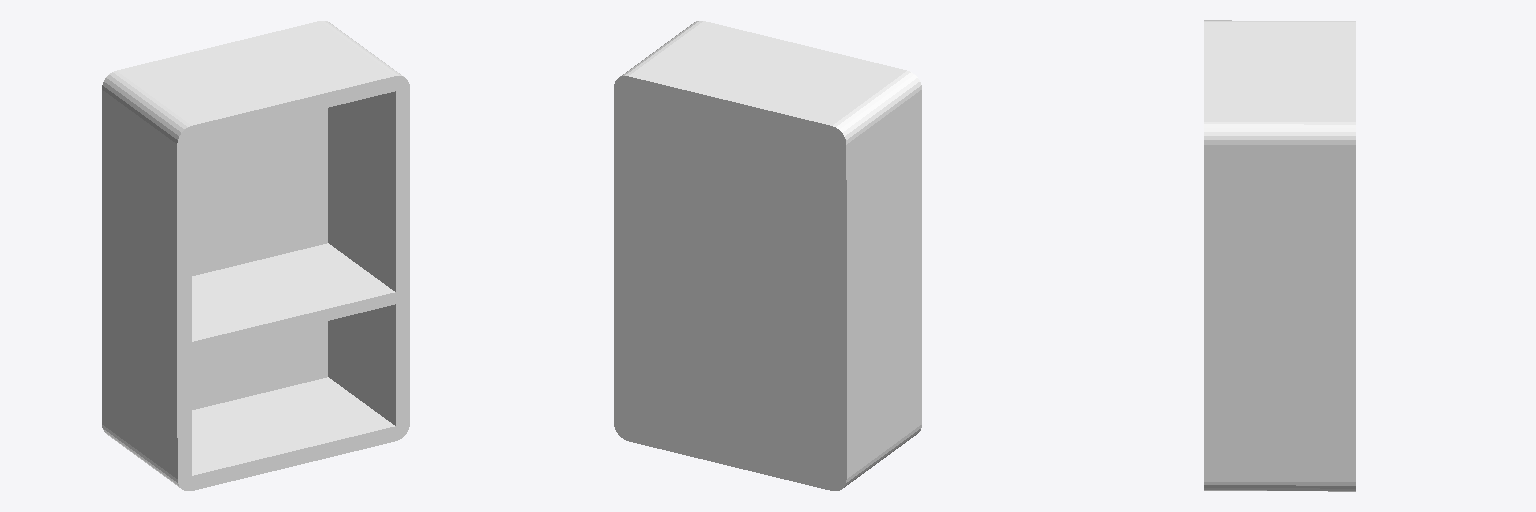
URDF robot description (walls):
<?xml version="1.0" encoding="utf-8"?>
<robot name="walls">
  <link name="base_link">
    <contact>
      <lateral_friction value="0.5"/>
      <rolling_friction value="0.0"/>
      <contact_cfm value="0.0"/>
      <contact_erp value="1.0"/>
    </contact>
    <inertial>
      <origin rpy="0 0 0" xyz="0 0 0"/>
      <mass value="0"/>
      <inertia ixx="0" ixy="0" ixz="0" iyy="0" iyz="0" izz="0"/>
    </inertial>
    <visual>
      <origin rpy="1.57 0 0" xyz="0 0 0"/>
      <geometry>
        <mesh filename="models/meshes/fridge/fridge_back.obj" scale="10 10 10"/>
      </geometry>
      <material name="tray_material">
        <color rgba="1 1 1 1"/>
      </material>
    </visual>
    <collision concave="yes">
      <origin rpy="1.57 0 0" xyz="0 0 0"/>
      <geometry>
        <mesh filename="models/meshes/fridge/fridge_back.obj" scale="9 9 9"/>
      </geometry>
    </collision>
  </link>
</robot>

--- Render facts (derived) ---
Views: 3 orthographic renders of the robot side by side, from view 1: azimuth 30°, elevation 25°; view 2: azimuth 150°, elevation 25°; view 3: azimuth 270°, elevation 25°.
Model walls with 1 links and 0 joints (none), rooted at base_link, posed every joint at zero.
Links seen in each view (by area): view 1: base_link; view 2: base_link; view 3: base_link.
Link boxes in pixels (x1,y1,x2,y2): base_link: (102,21,409,490); base_link: (614,21,921,490); base_link: (1204,20,1355,491).
Size in the robot's own frame: 0.8 by 0.451 by 1.2 metres.
1 mesh visuals loaded from 1 distinct referenced files (1 OBJ).